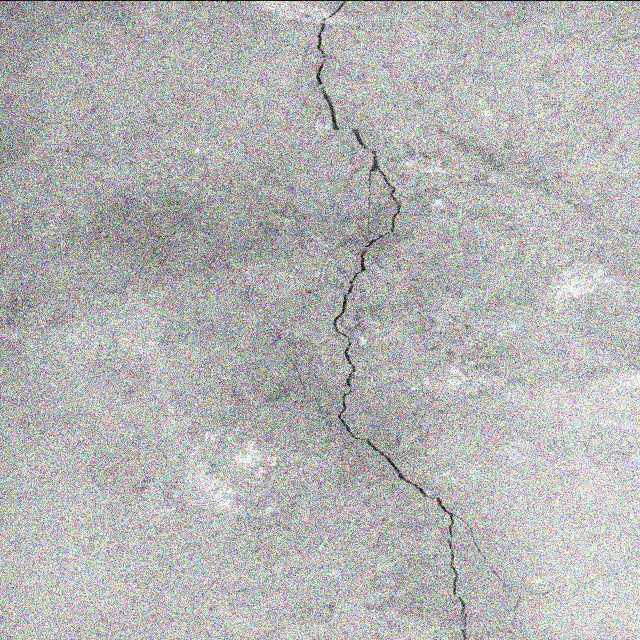SurfaceCrack: (260, 0, 531, 638)
